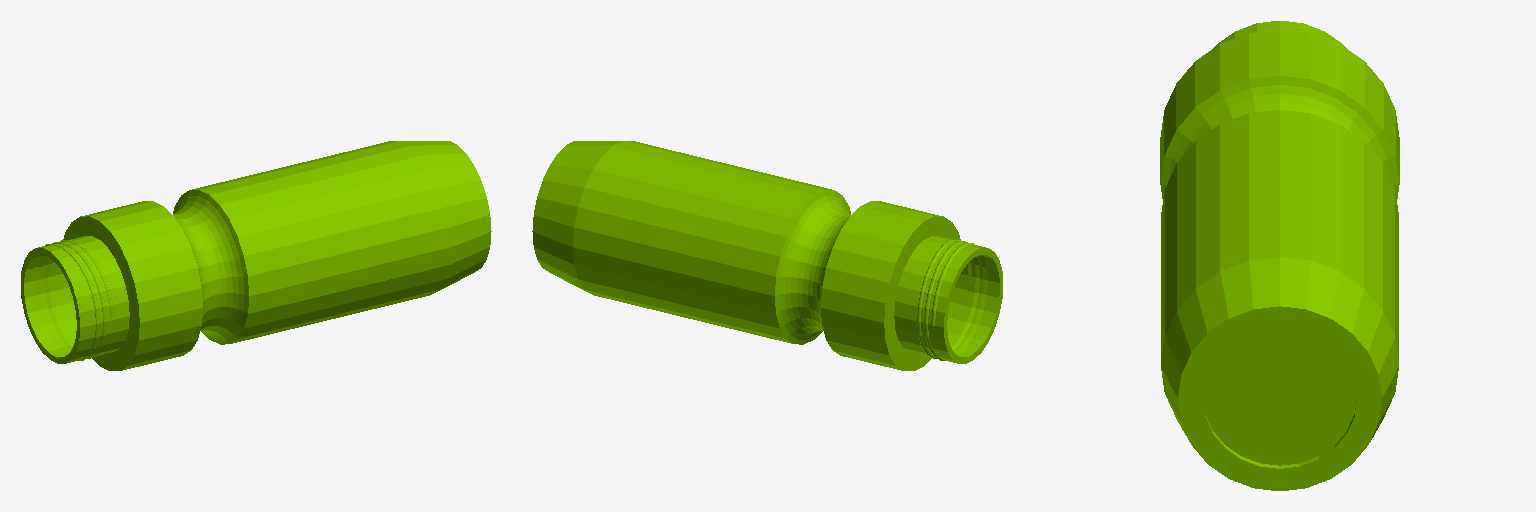
The robot description file, URDF, robot "cube.urdf":
<?xml version="0.0" ?>
<robot name="cube.urdf">
  <link name="baseLink">
    <contact>
      <lateral_friction value="2.0"/>
      <inertia_scaling value="3.0"/>
    </contact>
    <inertial>
      <origin rpy="0 0 0" xyz="0 0 0"/>
       <mass value=".05"/>
       <inertia ixx="1" ixy="0" ixz="0" iyy="1" iyz="0" izz="1"/>
    </inertial>
    <visual>
      <origin rpy="0 0 0" xyz="0 0 0"/>
      <geometry>
        <mesh filename="bottle_new.obj" scale="0.8 0.8 0.8"/>
      </geometry>
       <material name="white">
        <color rgba="0.54 0.8 0 1"/>
      </material>
    </visual>
    <collision>
      <origin rpy="0 0 0" xyz="0 0 0"/>
      <geometry>
        <mesh filename="bottle_new.obj" scale="0.8 0.8 0.8"/>
      </geometry>
    </collision>
  </link>
</robot>

--- Facts derived from the render (not from the file) ---
Views: 3 orthographic renders of the robot side by side, from view 1: azimuth 30°, elevation 25°; view 2: azimuth 150°, elevation 25°; view 3: azimuth 270°, elevation 25°.
Robot: cube.urdf — 1 links, 0 joints (none); root link baseLink; default pose: all joints at 0.
Visible links, largest first — view 1: baseLink; view 2: baseLink; view 3: baseLink.
Link boxes in pixels (x1,y1,x2,y2): baseLink: (21,141,491,370); baseLink: (532,141,1002,370); baseLink: (1160,21,1399,490).
Size in the robot's own frame: 0.1793 by 0.061 by 0.061 metres.
Meshes: 1 distinct files referenced, 1 mesh visuals loaded (1 OBJ).